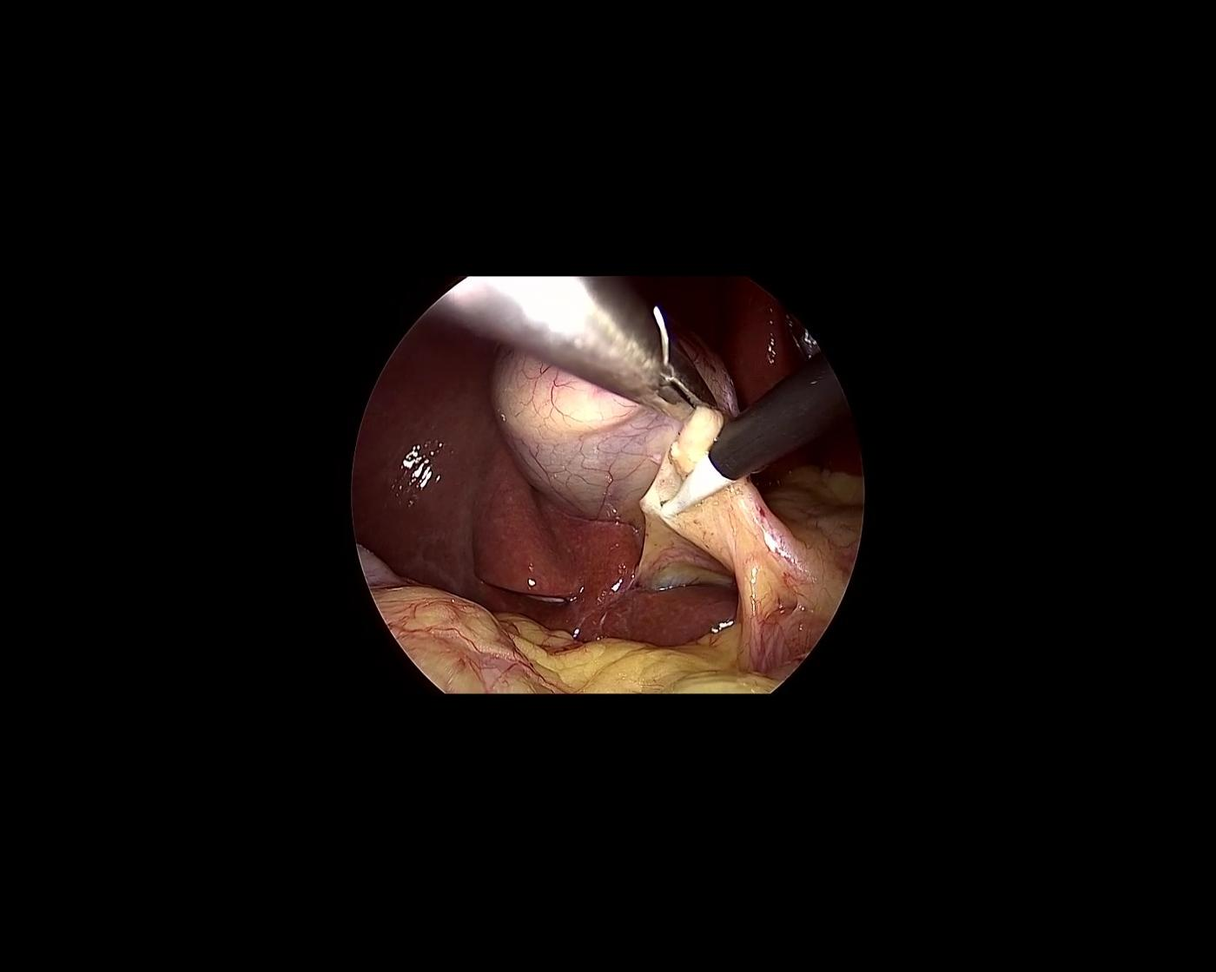Cautery: (630, 355, 855, 524)
Forceps: (415, 269, 721, 427)
Gallbladder: (487, 324, 750, 548)
Liver: (279, 300, 744, 768)
